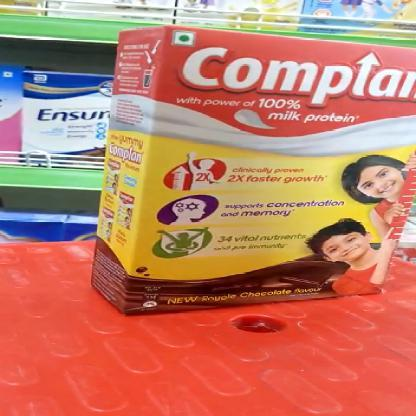Complan Royal Chocolate: (129, 26, 415, 315)
